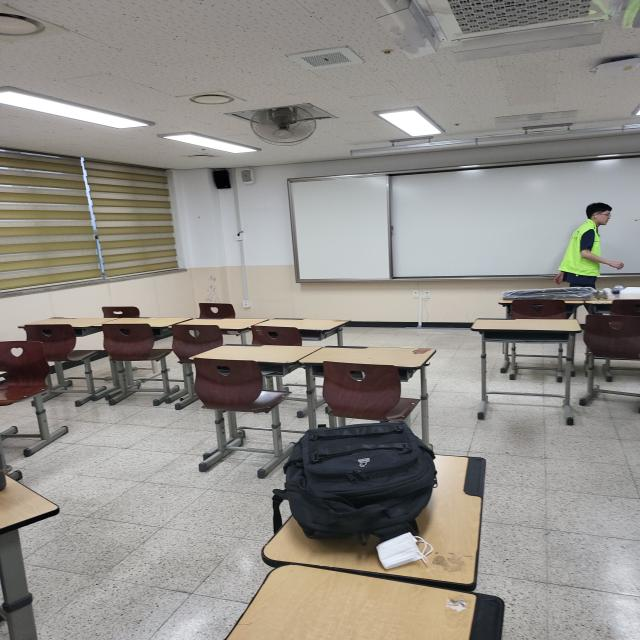weston_spy: (553, 214, 611, 282)
